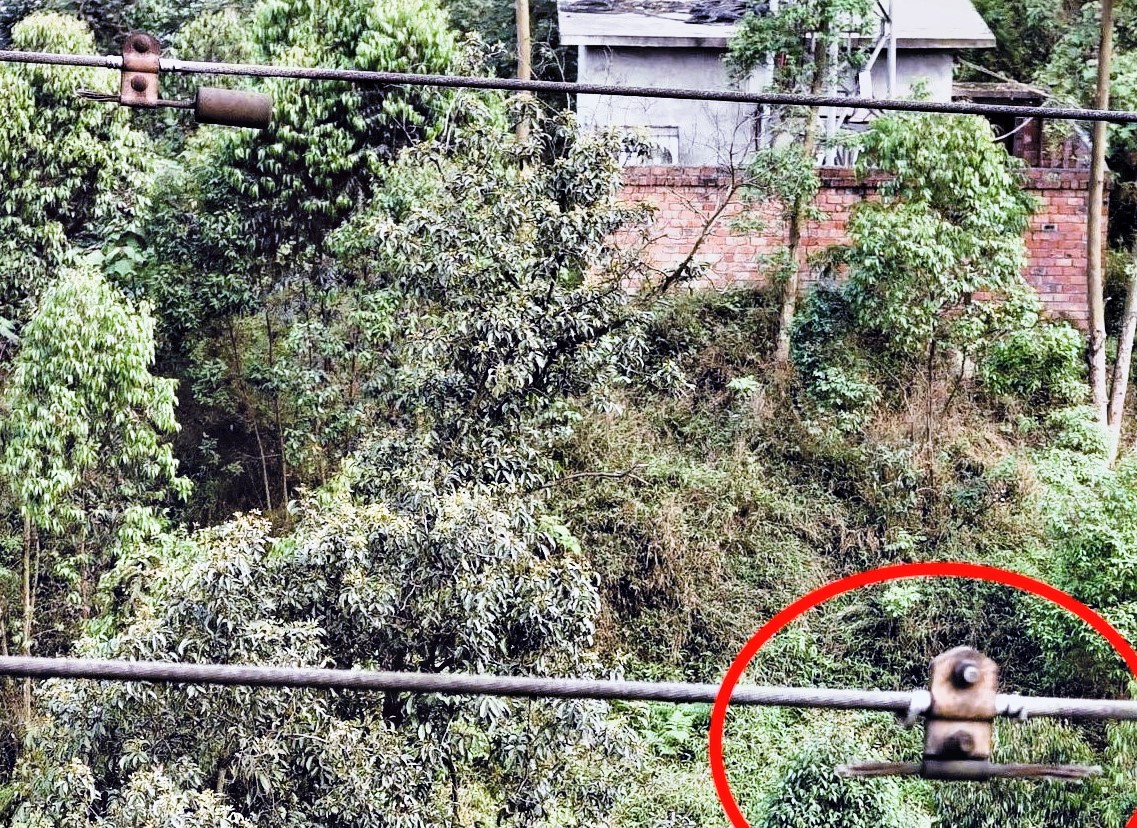Damage of shockproof hammer: (816, 630, 1108, 792), (56, 24, 290, 135)
